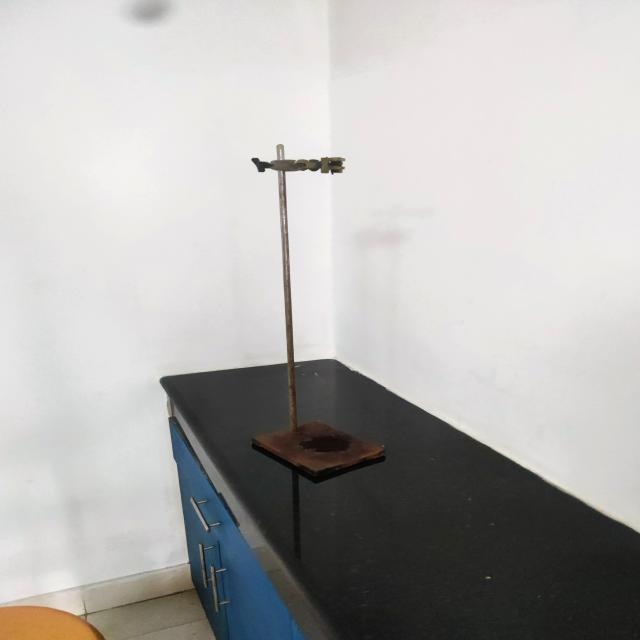Burette_Stands: (196, 115, 416, 512)
